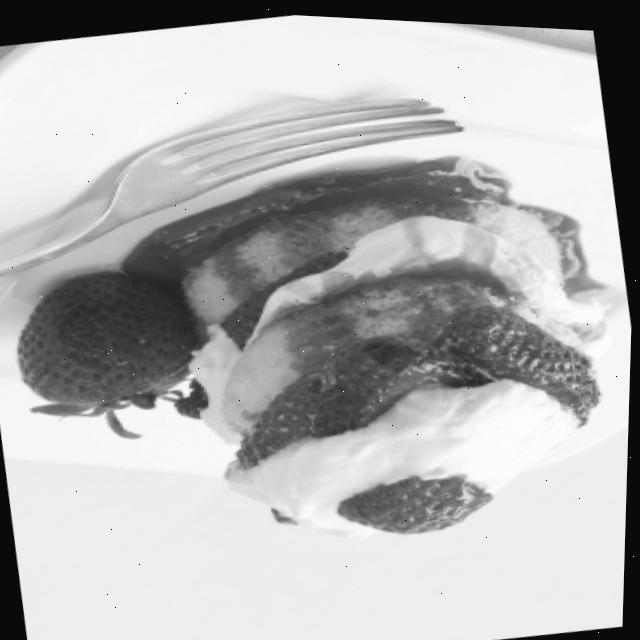蛋糕甜品: (0, 30, 639, 635)
